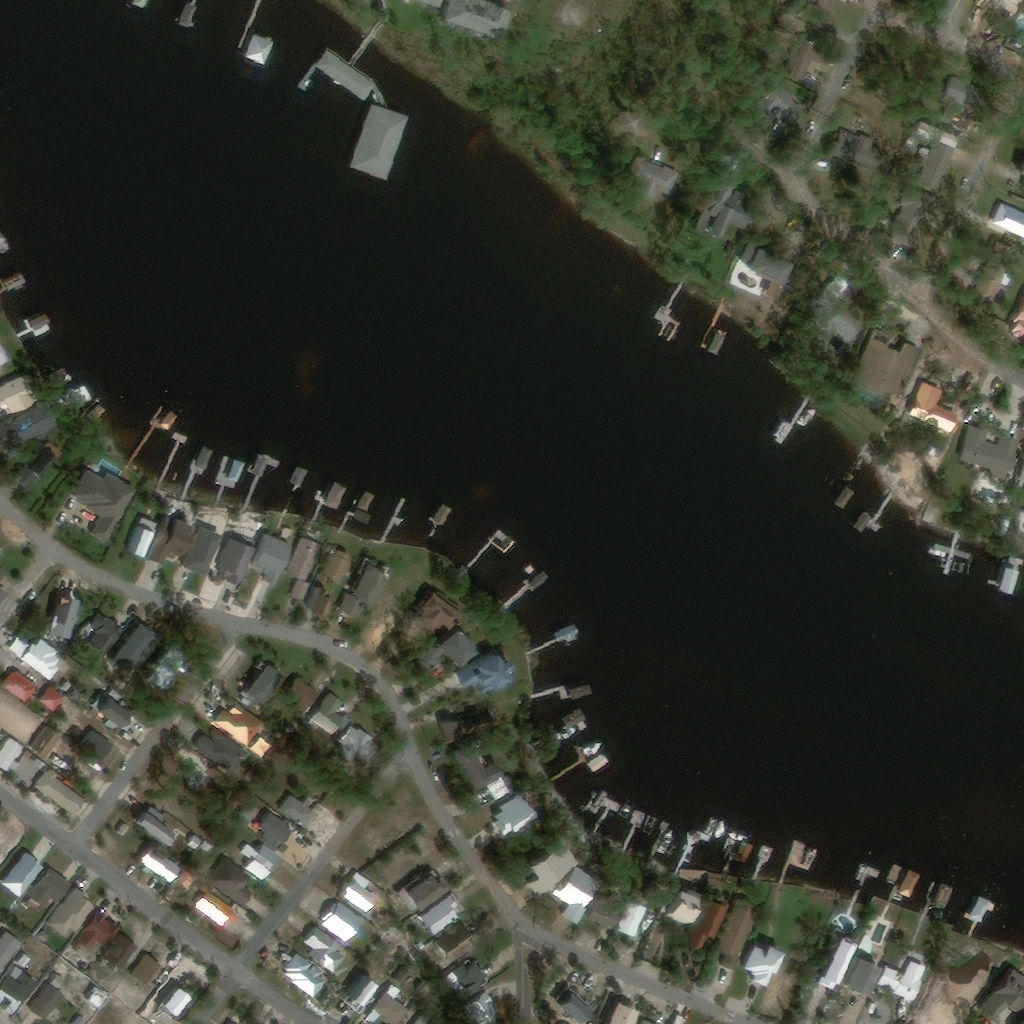minor_damage: (470, 993, 499, 1022)
no_damage: (845, 329, 925, 409), (348, 103, 408, 181), (73, 470, 136, 542), (805, 263, 864, 339), (704, 168, 758, 239), (739, 231, 794, 297), (314, 48, 376, 101), (959, 426, 1019, 479), (551, 867, 603, 925), (718, 898, 758, 973), (146, 508, 199, 564), (307, 550, 353, 613), (527, 840, 578, 896), (0, 401, 60, 448), (19, 640, 71, 694), (441, 0, 516, 37), (286, 532, 324, 602), (891, 185, 933, 248), (455, 738, 505, 790), (339, 561, 387, 615), (254, 531, 299, 587), (456, 651, 514, 694), (423, 627, 479, 671), (975, 241, 1016, 301), (15, 439, 64, 488), (944, 75, 986, 132), (921, 403, 962, 461), (628, 155, 680, 200), (816, 936, 857, 993), (686, 895, 730, 948), (38, 769, 88, 815), (832, 130, 886, 172), (979, 971, 1023, 1021), (51, 886, 94, 937), (300, 695, 350, 738), (741, 942, 786, 989), (1, 851, 45, 899), (755, 80, 805, 122), (783, 37, 831, 80), (194, 732, 244, 773), (918, 139, 957, 191), (877, 961, 925, 1002), (182, 525, 221, 574), (319, 901, 363, 944), (213, 706, 260, 746), (218, 536, 256, 585), (214, 859, 255, 904), (414, 591, 460, 631), (75, 910, 122, 949), (840, 954, 883, 996), (29, 867, 72, 906), (286, 956, 324, 999), (305, 929, 342, 973), (421, 893, 461, 933), (95, 689, 134, 730), (141, 846, 183, 884), (408, 870, 450, 908), (340, 874, 378, 915), (139, 808, 182, 844), (499, 794, 538, 833), (446, 710, 500, 738), (196, 889, 235, 927), (1, 965, 39, 1004), (0, 376, 40, 413), (367, 984, 407, 1021), (119, 622, 155, 663), (241, 845, 282, 881), (246, 663, 284, 701), (666, 888, 701, 929), (284, 679, 321, 717), (27, 983, 64, 1020), (555, 987, 593, 1023), (988, 202, 1023, 241), (616, 899, 648, 940), (451, 963, 492, 995), (50, 594, 80, 637), (338, 726, 377, 759), (93, 615, 125, 655), (264, 813, 296, 852), (443, 925, 477, 959), (347, 974, 379, 1010), (128, 517, 155, 557), (242, 33, 274, 66), (586, 901, 620, 931), (4, 670, 35, 701), (110, 936, 140, 968), (615, 110, 649, 137), (988, 567, 1019, 596), (0, 934, 21, 975), (286, 796, 316, 824), (36, 726, 64, 756), (165, 985, 193, 1015), (650, 872, 675, 905), (132, 953, 160, 982), (1009, 287, 1023, 343), (87, 731, 116, 758), (0, 738, 23, 771), (0, 987, 22, 1021), (609, 1001, 641, 1023), (829, 484, 855, 511), (382, 928, 410, 953), (4, 637, 32, 662), (930, 882, 954, 911), (896, 870, 920, 899), (324, 481, 346, 508), (39, 686, 63, 710), (176, 2, 197, 29), (848, 512, 872, 534), (660, 831, 681, 855), (158, 409, 179, 430), (586, 753, 608, 773), (735, 843, 755, 865), (226, 458, 244, 482), (431, 502, 451, 523), (562, 710, 585, 728), (28, 312, 51, 329), (252, 453, 269, 476), (196, 446, 213, 468), (357, 489, 374, 511), (250, 737, 269, 756), (552, 626, 576, 641), (7, 271, 28, 288), (707, 331, 723, 353), (397, 966, 415, 985), (290, 464, 307, 484), (534, 570, 552, 588), (87, 991, 105, 1009), (91, 403, 108, 421), (656, 305, 673, 323), (590, 794, 606, 812), (990, 36, 1009, 51), (131, 0, 150, 14), (0, 342, 11, 366), (242, 810, 258, 826), (180, 868, 194, 884), (190, 834, 204, 849), (816, 0, 834, 11), (117, 823, 130, 838), (416, 1014, 436, 1023), (200, 841, 213, 854), (33, 759, 46, 771), (420, 981, 432, 994), (0, 229, 6, 243), (418, 943, 427, 951), (666, 317, 674, 326)
